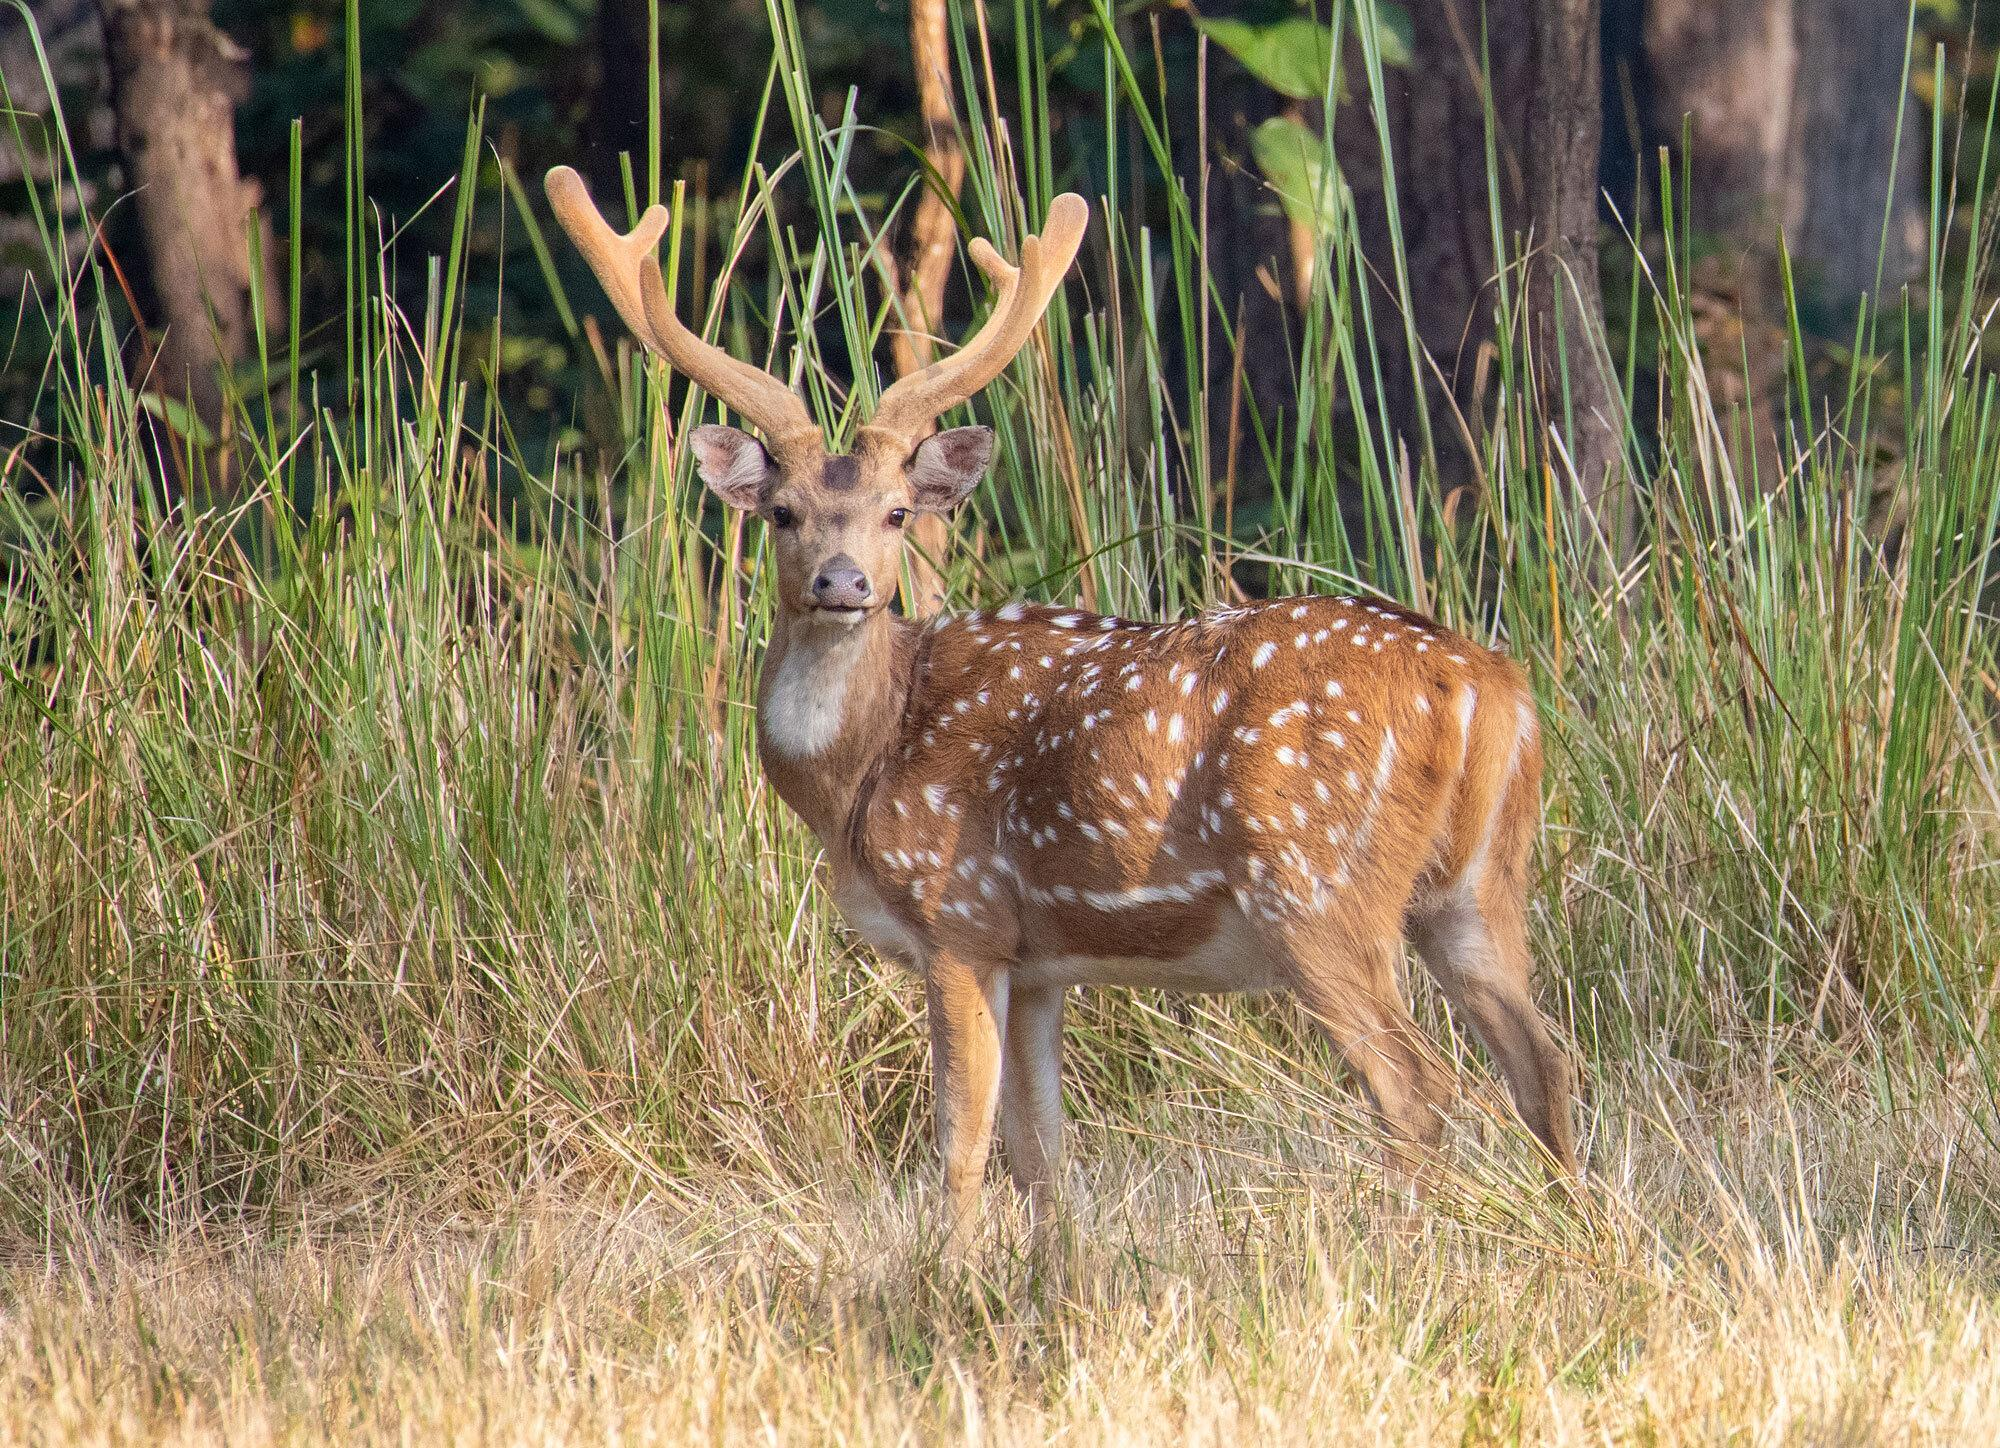Deer: (547, 168, 1575, 1257)
